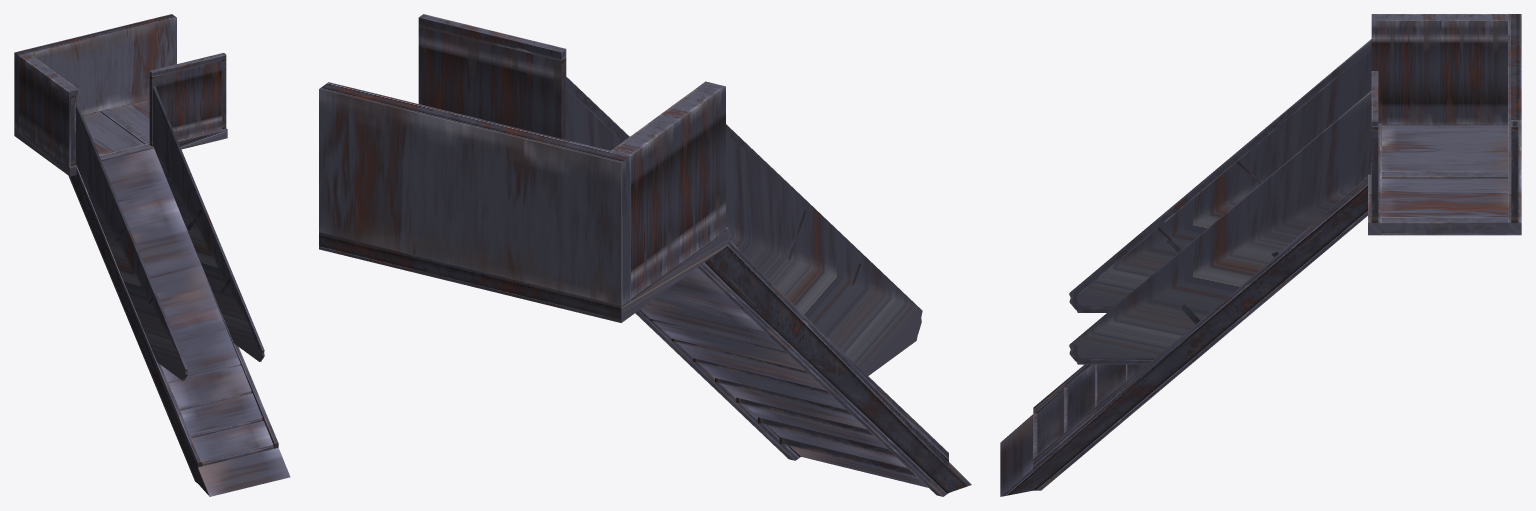
The model's file is fireEscape_top.FBX.
3 renders of one model, left to right at view 1: azimuth 30°, elevation 25°; view 2: azimuth 150°, elevation 25°; view 3: azimuth 270°, elevation 25°, orthographic. The views are drawn at different scales.
Parts seen in each view (by area): view 1: fireEscape_top_COL, fireEscape_top; view 2: fireEscape_top_COL, fireEscape_top; view 3: fireEscape_top_COL, fireEscape_top.
Part boxes in pixels (x1,y1,x2,y2): fireEscape_top_COL: [14, 14, 290, 496]; fireEscape_top: [14, 53, 278, 483]; fireEscape_top_COL: [319, 19, 971, 492]; fireEscape_top: [319, 14, 948, 496]; fireEscape_top_COL: [1000, 14, 1521, 496]; fireEscape_top: [1033, 49, 1521, 490].
Bounding box in the file's own units: 218 × 407 × 453.
